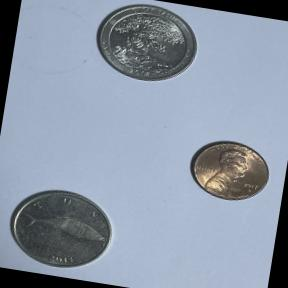coin: (0, 181, 121, 279), (84, 0, 206, 92), (181, 132, 275, 209)
